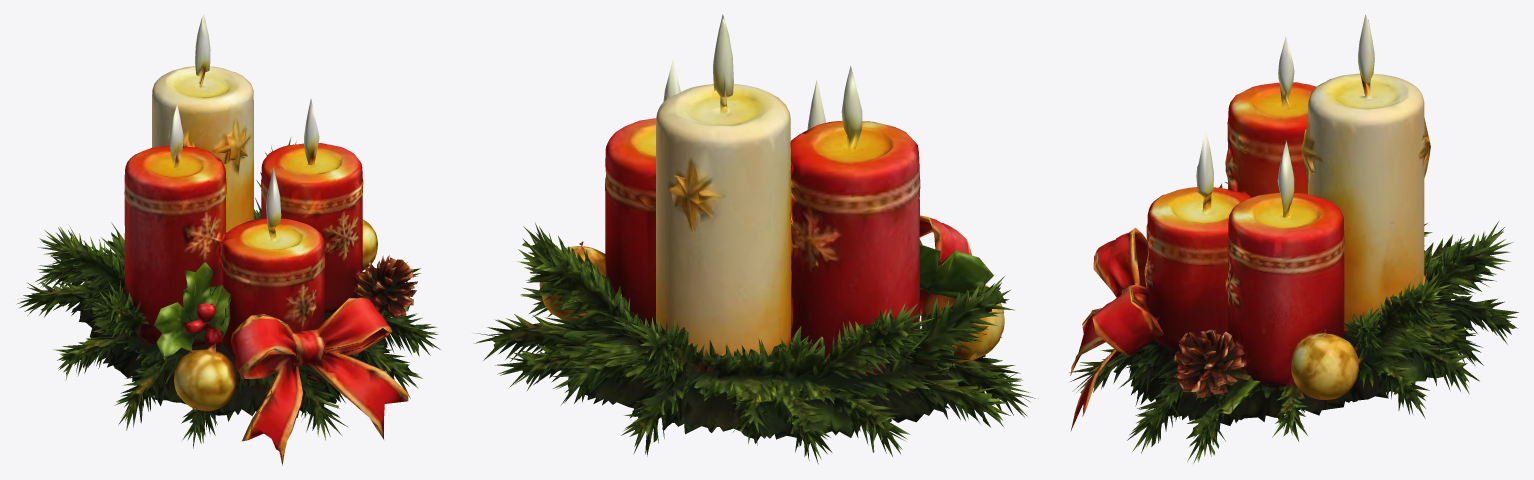
The model's file is candle.glb.
3 renders of one model, left to right at view 1: azimuth 30°, elevation 25°; view 2: azimuth 150°, elevation 25°; view 3: azimuth 270°, elevation 25°, orthographic. The views are drawn at different scales.
Visible parts, largest first — view 1: tripo_node_6510c1ea-6d06-4ff7-881f-53d1dd06baf2; view 2: tripo_node_6510c1ea-6d06-4ff7-881f-53d1dd06baf2; view 3: tripo_node_6510c1ea-6d06-4ff7-881f-53d1dd06baf2.
Boxes of the visible parts, box(x1,y1,x2,y2) form: tripo_node_6510c1ea-6d06-4ff7-881f-53d1dd06baf2: box(17, 14, 440, 465); tripo_node_6510c1ea-6d06-4ff7-881f-53d1dd06baf2: box(473, 14, 1035, 464); tripo_node_6510c1ea-6d06-4ff7-881f-53d1dd06baf2: box(1069, 14, 1518, 463).
Size of the model in its own units: 0.9739 by 0.8711 by 0.9126.
1 material, 1 textured.
